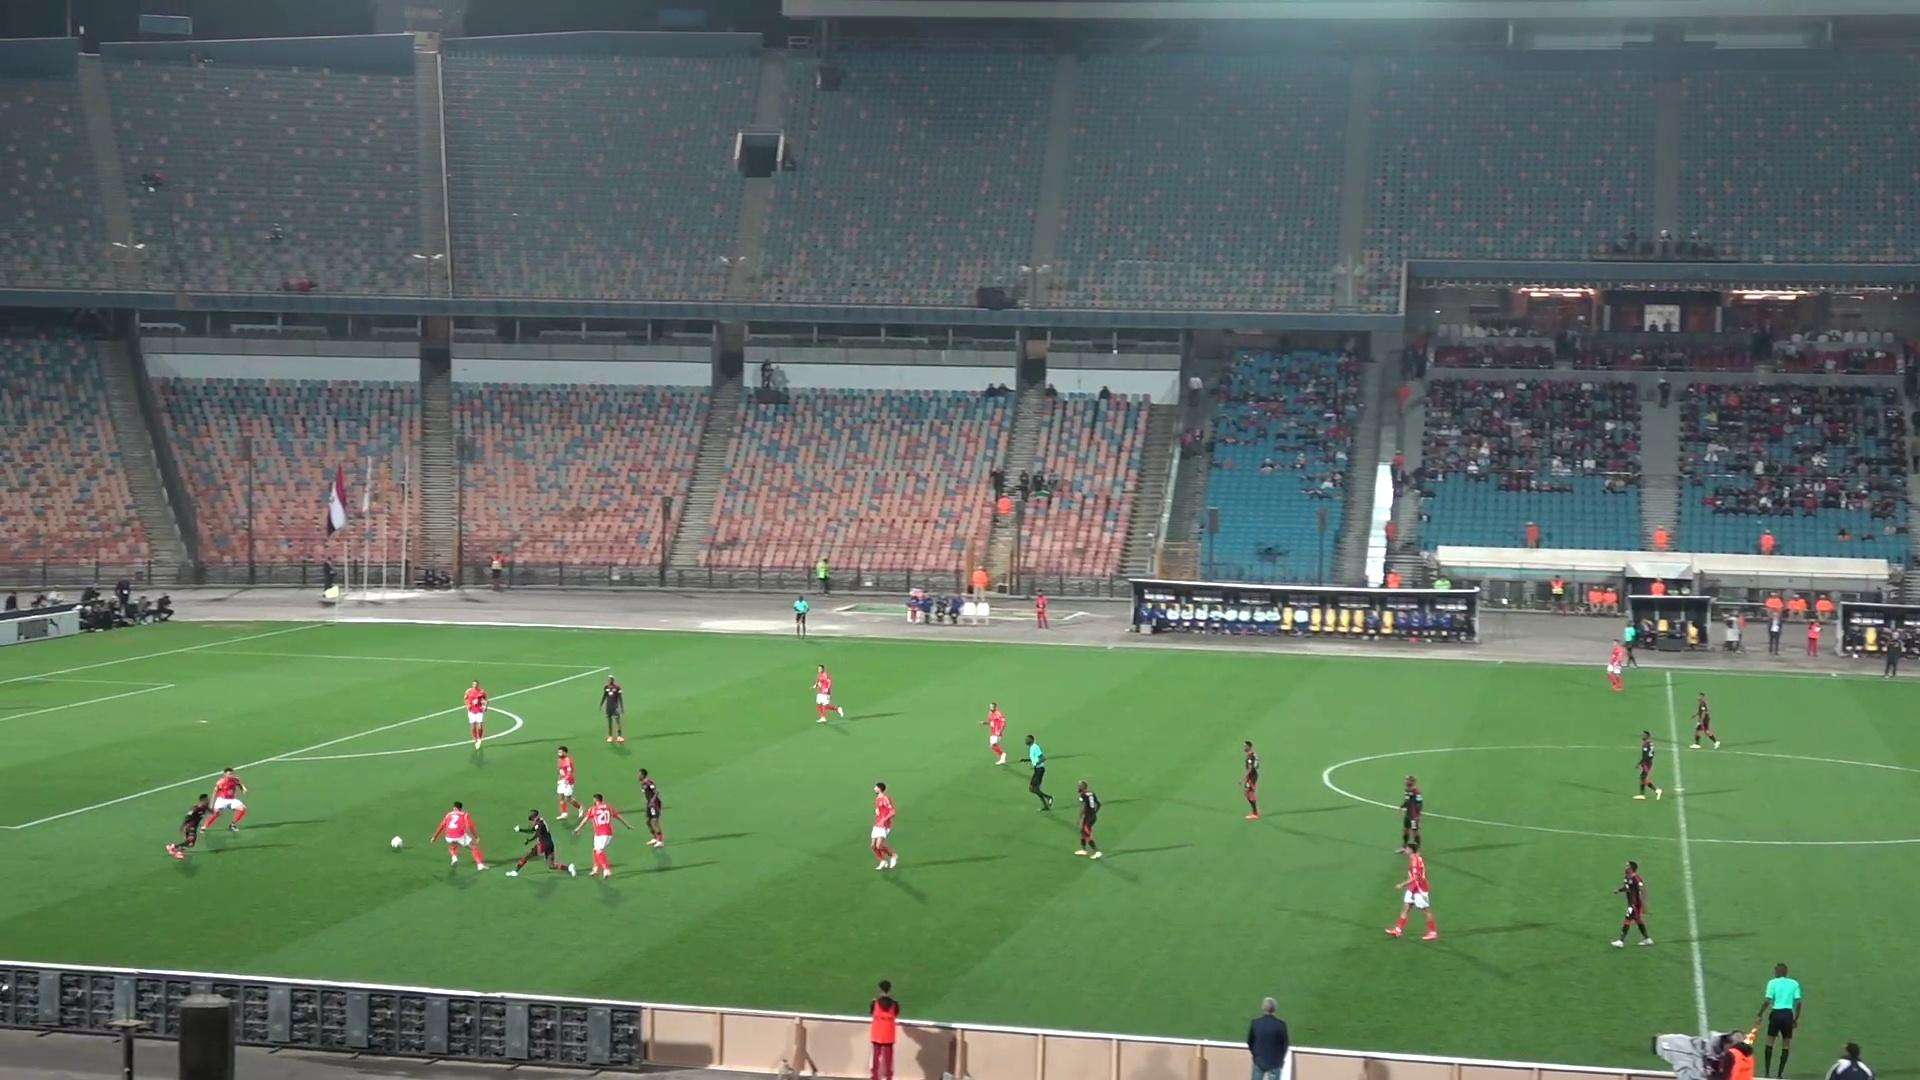Ball: (389, 835, 406, 851)
Refree: (1749, 963, 1804, 1058), (1021, 735, 1054, 811), (790, 596, 812, 636)
Team1: (1386, 844, 1439, 940), (574, 793, 620, 876), (431, 802, 487, 869), (165, 795, 215, 858), (869, 782, 898, 869), (204, 770, 247, 829), (811, 665, 844, 723), (460, 680, 488, 749), (555, 745, 582, 814), (978, 703, 1007, 765), (1605, 640, 1638, 691)
Team2: (506, 808, 574, 876), (1610, 861, 1654, 947), (637, 769, 666, 847), (1633, 729, 1664, 799), (1075, 781, 1102, 857), (1396, 775, 1424, 851), (597, 675, 626, 744), (1238, 740, 1261, 819), (1691, 694, 1721, 748)
